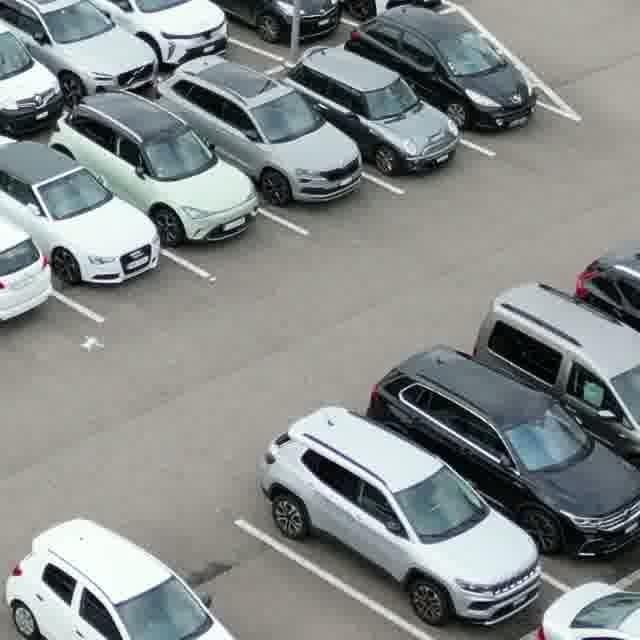Drohne: (81, 336, 103, 351)
